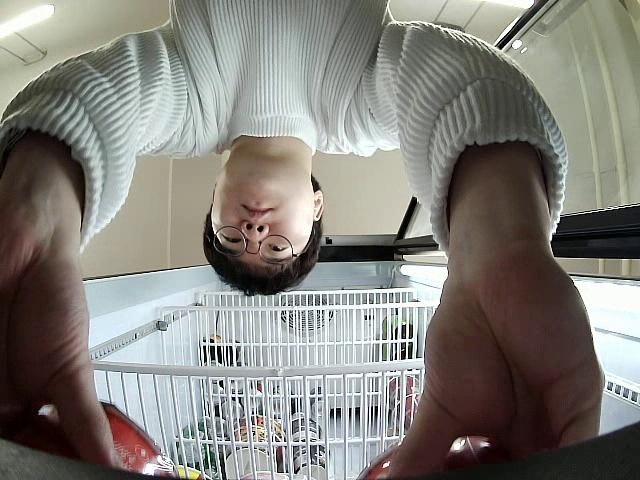00_hand: (384, 249, 607, 480), (0, 193, 117, 471)
02_shinRamen_S: (36, 396, 180, 480), (356, 433, 494, 480)
